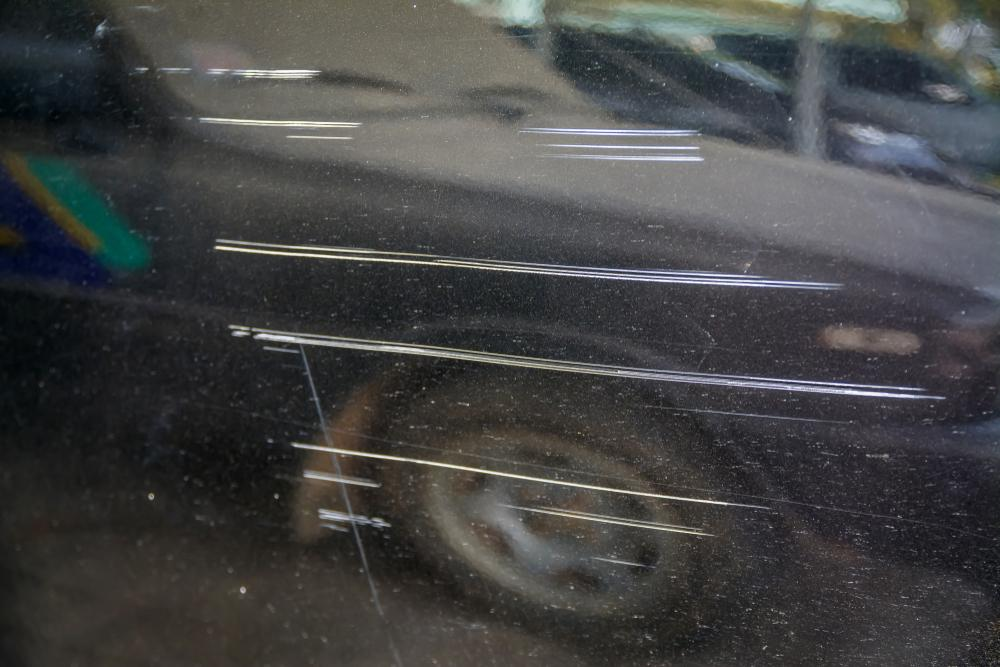scratch: (134, 47, 955, 594)
